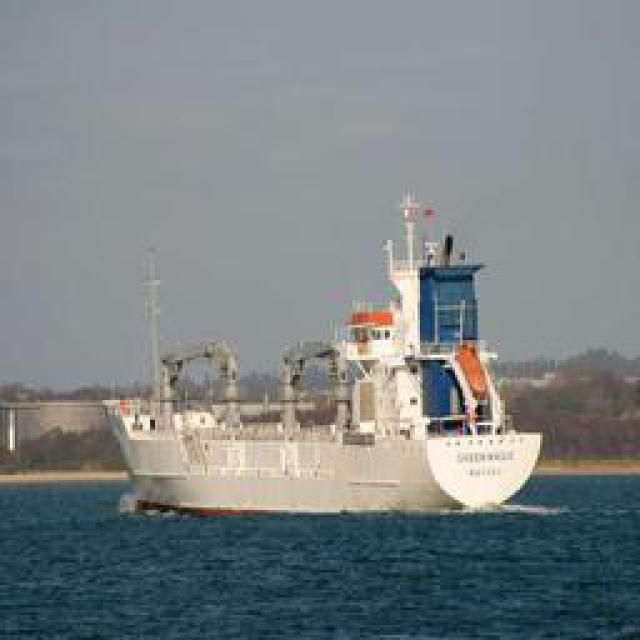Ship: (105, 191, 555, 521)
